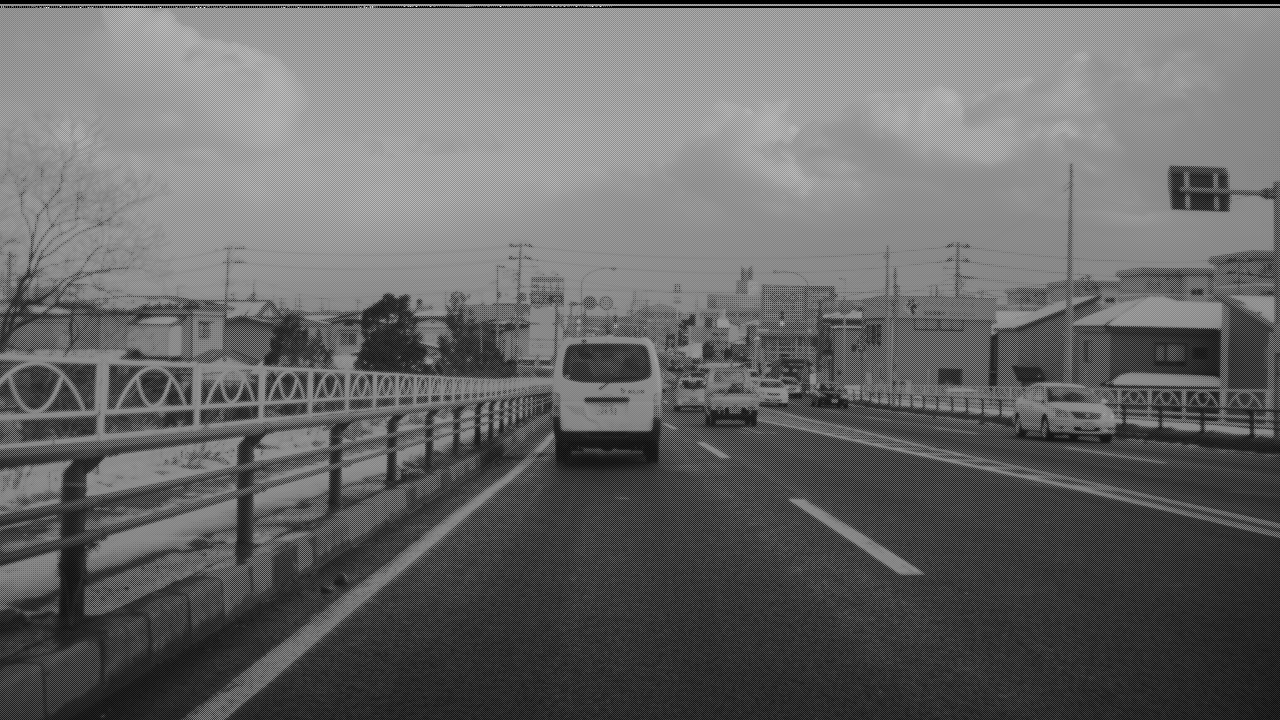pole: (206, 162, 217, 383)
